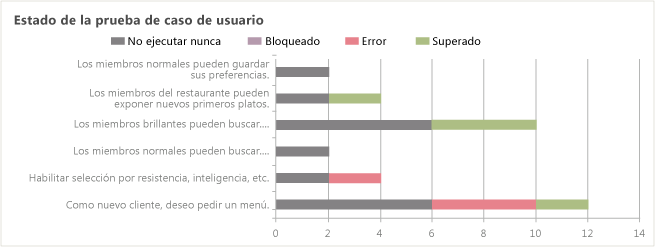canvas: (280, 62, 638, 214)
legend: (107, 30, 489, 53)
title: (11, 12, 265, 29)
x-axis: (272, 214, 643, 223)
x-labels: (269, 226, 647, 243)
y-axis: (269, 62, 279, 230)
y-labels: (29, 58, 269, 219)
